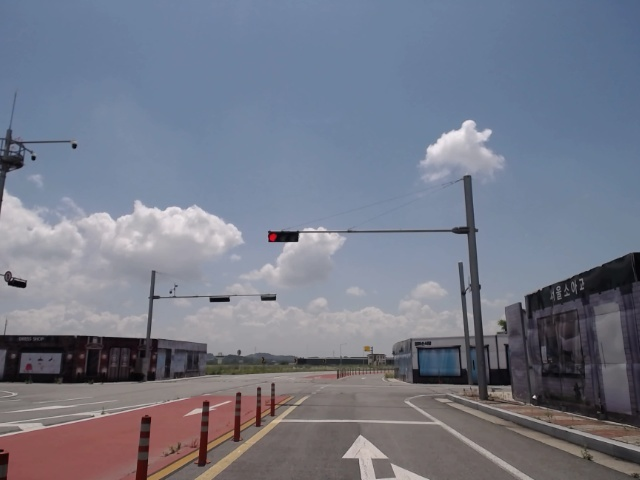red_3: (265, 230, 301, 244)
